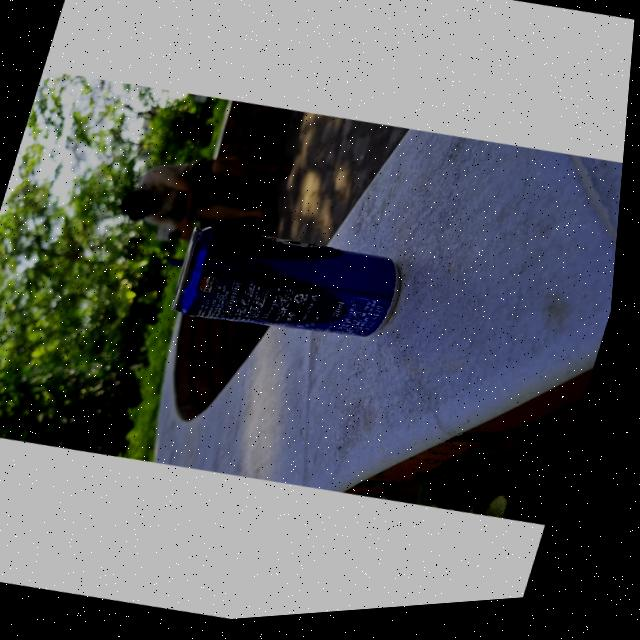Pepsi: (173, 218, 409, 365)
